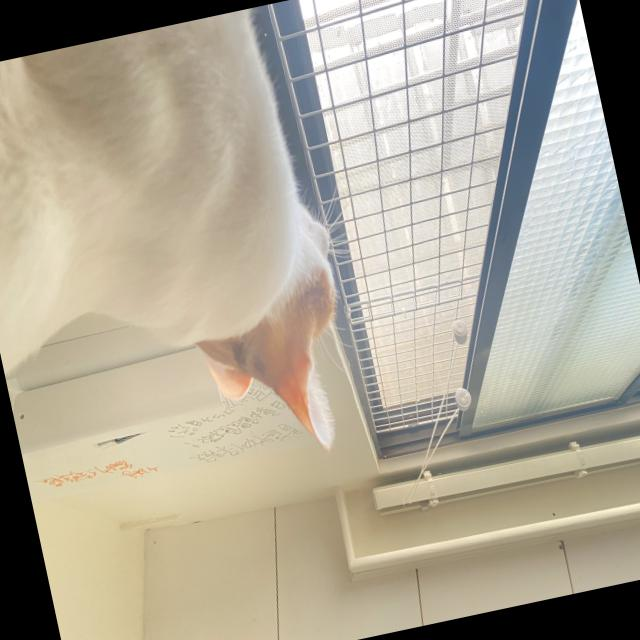cat1: (0, 0, 377, 516)
